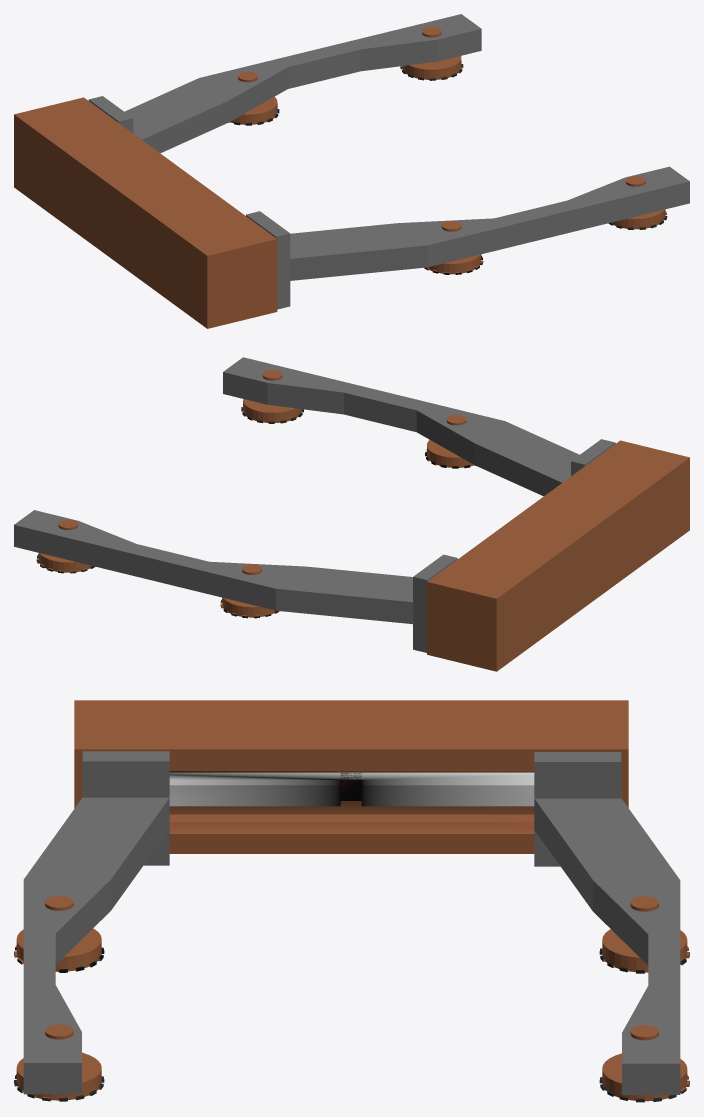
The model's file is GreiferColada.dae.
3 views of the same model, one above another, from view 1: azimuth 30°, elevation 25°; view 2: azimuth 150°, elevation 25°; view 3: azimuth 270°, elevation 25° (orthographic). The views are drawn at different scales.
Parts seen in each view (by area): view 1: Cube, Cube_001, Cube_002, Cylinder_003, Cylinder_002, Cylinder_001, Cylinder; view 2: Cube, Cube_002, Cube_001, Cylinder_001, Cylinder, Cylinder_003, Cylinder_002; view 3: Cube, Cube_001, Cube_002, Cylinder_002, Cylinder, Cylinder_001, Cylinder_003.
Boxes of the visible parts, left/top/right/bottom form: Cube: left=14, top=97, right=277, bottom=328; Cube_001: left=246, top=166, right=689, bottom=309; Cube_002: left=88, top=14, right=481, bottom=153; Cylinder_003: left=400, top=27, right=463, bottom=80; Cylinder_002: left=228, top=71, right=279, bottom=125; Cylinder_001: left=608, top=176, right=667, bottom=229; Cylinder: left=424, top=221, right=483, bottom=274; Cube: left=427, top=440, right=689, bottom=671; Cube_002: left=14, top=510, right=457, bottom=652; Cube_001: left=223, top=357, right=615, bottom=496; Cylinder_001: left=241, top=370, right=303, bottom=423; Cylinder: left=425, top=415, right=475, bottom=468; Cylinder_003: left=36, top=519, right=95, bottom=573; Cylinder_002: left=220, top=564, right=279, bottom=618; Cube: left=74, top=700, right=628, bottom=853; Cube_001: left=23, top=751, right=169, bottom=1094; Cube_002: left=534, top=752, right=680, bottom=1094; Cylinder_002: left=599, top=896, right=689, bottom=973; Cylinder: left=14, top=895, right=104, bottom=972; Cylinder_001: left=14, top=1024, right=104, bottom=1101; Cylinder_003: left=599, top=1025, right=689, bottom=1102.
Size of the model in its own units: 13.34 by 11.71 by 2.02.
